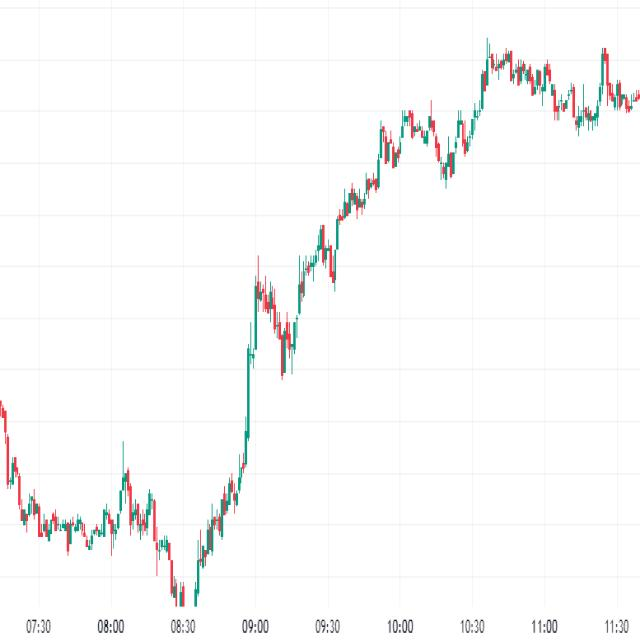Rising-Wedge: (227, 24, 517, 428)
